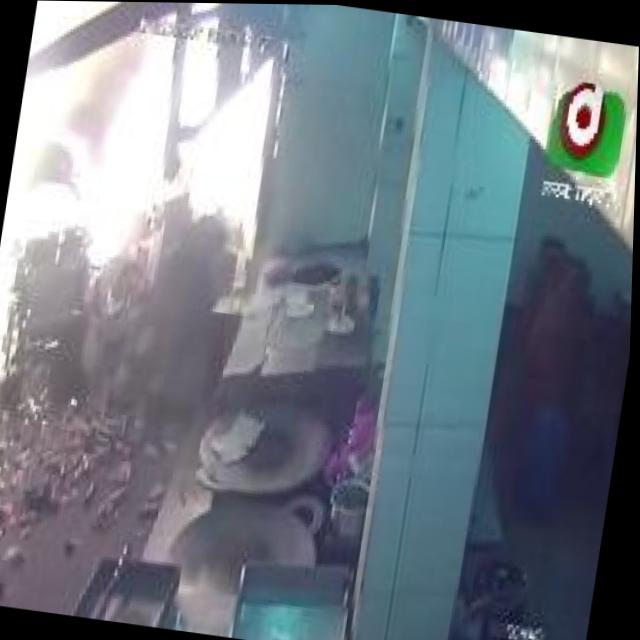fire: (69, 1, 285, 277), (0, 0, 132, 401)
